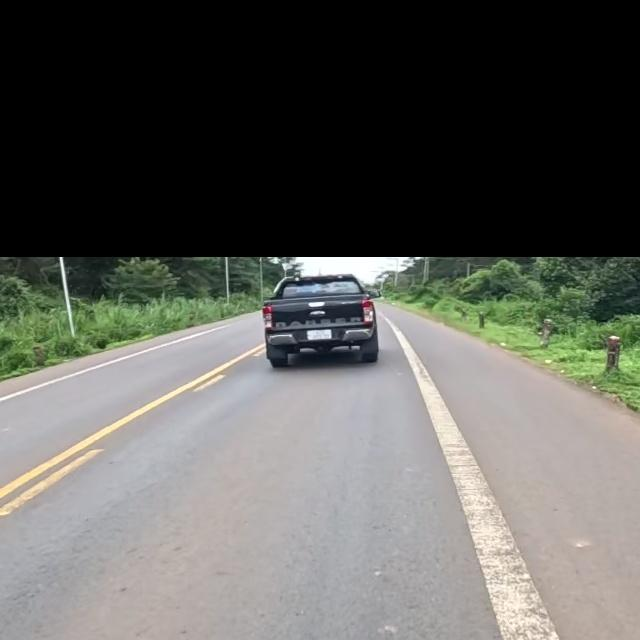license-plate: (306, 328, 333, 341)
